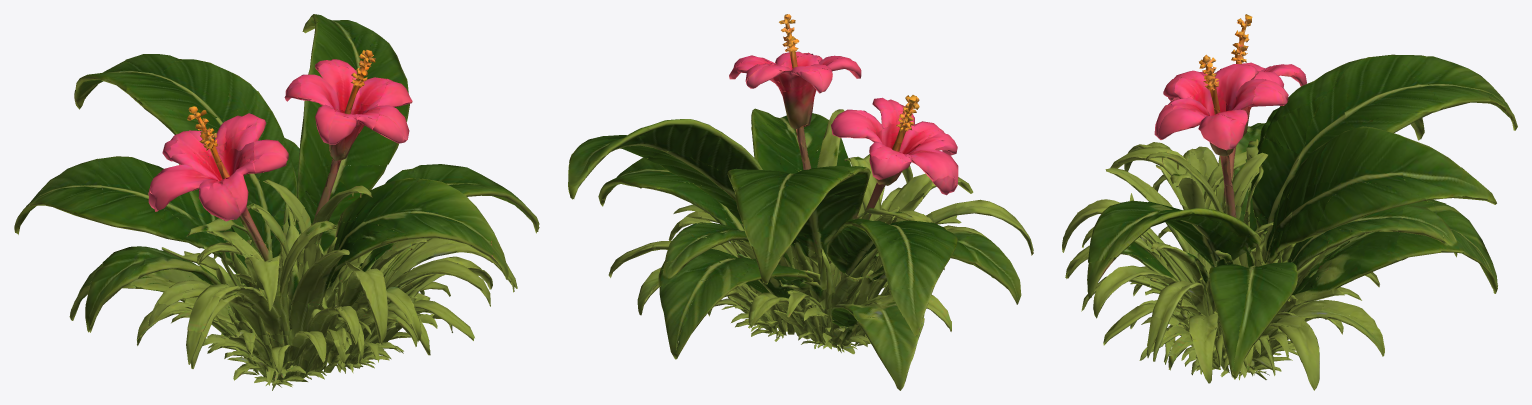
The model's file is flower_cluster.glb.
3 views of the same model, side by side, from view 1: azimuth 30°, elevation 25°; view 2: azimuth 150°, elevation 25°; view 3: azimuth 270°, elevation 25° (orthographic). The views are drawn at different scales.
Parts seen in each view (by area): view 1: flower_cluster; view 2: flower_cluster; view 3: flower_cluster.
Boxes of the visible parts, box(x1,y1,x2,y2) form: flower_cluster: box(14, 14, 539, 390); flower_cluster: box(568, 14, 1033, 390); flower_cluster: box(1062, 14, 1517, 390).
Bounding box in the file's own units: 1.9 × 1.29 × 1.7.
Materials: 1 (1 with a texture image).
